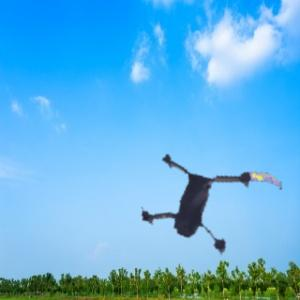drone: (123, 131, 291, 299)
